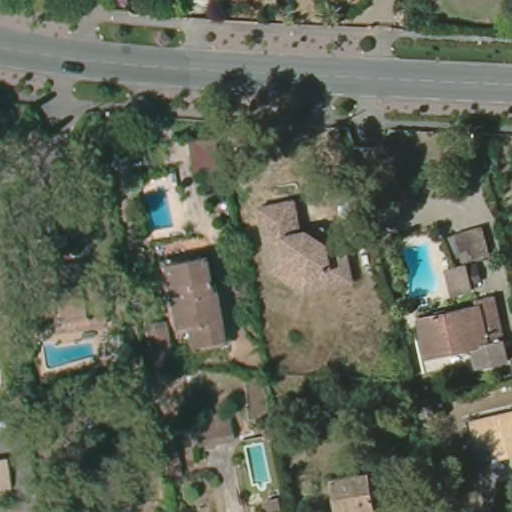pool: (392, 238, 443, 297), (41, 337, 98, 367), (142, 184, 176, 231), (245, 439, 275, 489)
